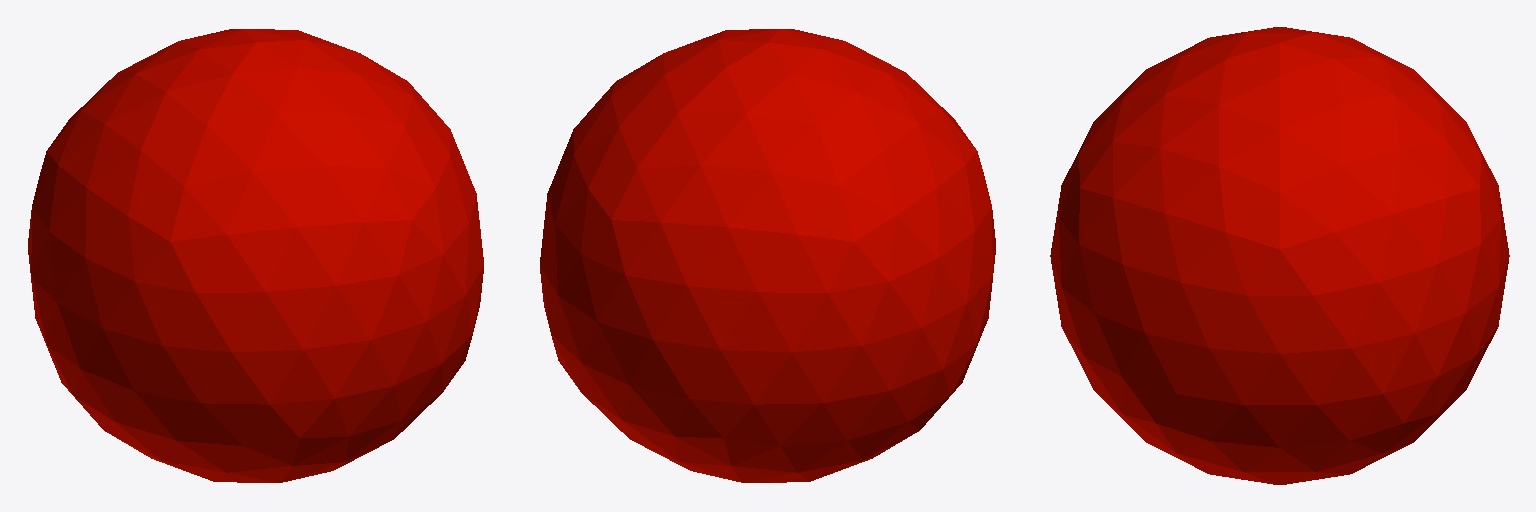
The model's file is marker-orange.obj.
3 renders of one model, left to right at view 1: azimuth 30°, elevation 25°; view 2: azimuth 150°, elevation 25°; view 3: azimuth 270°, elevation 25°, orthographic.
Parts seen in each view (by area): view 1: Icosphere; view 2: Icosphere; view 3: Icosphere.
Boxes of the visible parts, <box> form: Icosphere: <box>28,29,483,482</box>; Icosphere: <box>540,29,995,482</box>; Icosphere: <box>1050,27,1509,484</box>.
Size of the model in its own units: 1.13 by 1.16 by 1.13.